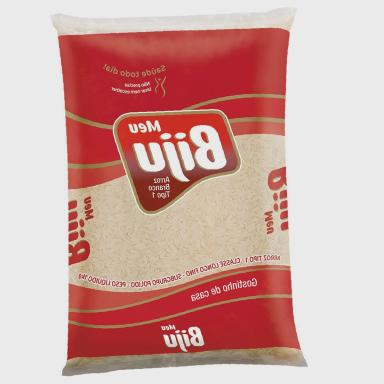rice package: (53, 9, 305, 375)
